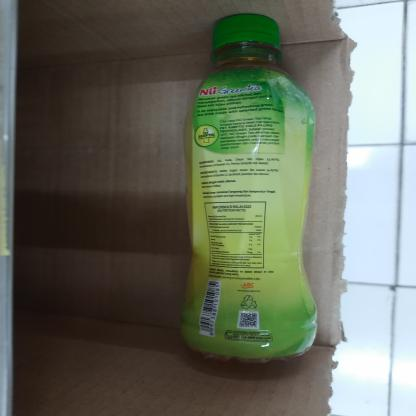bottle: (172, 11, 323, 374)
